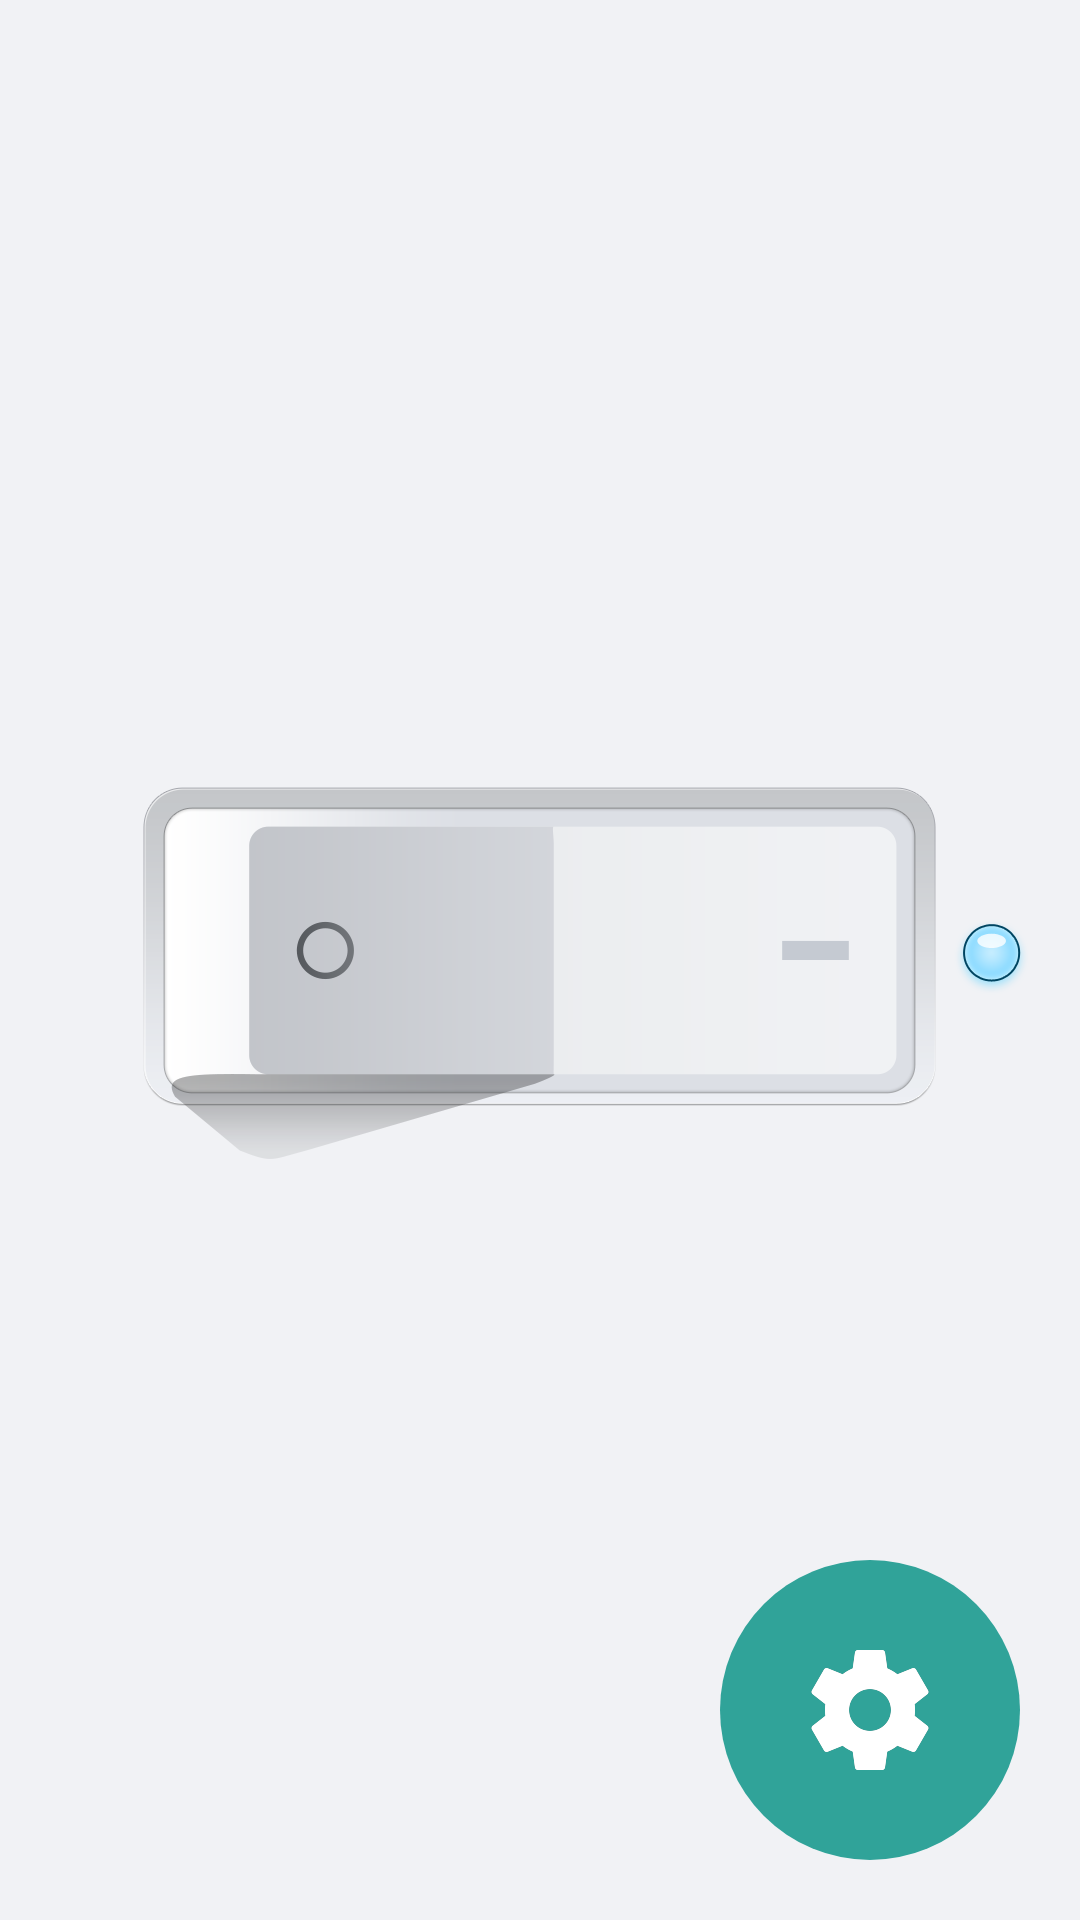

Screen size 1080w x 1920h. Icon name, then its center in pixels as [x,y]:
led on: [991,955]
settings: [870,1710]
